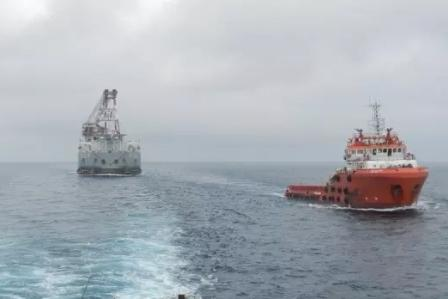otherboat: (283, 104, 429, 211), (75, 90, 144, 180)
